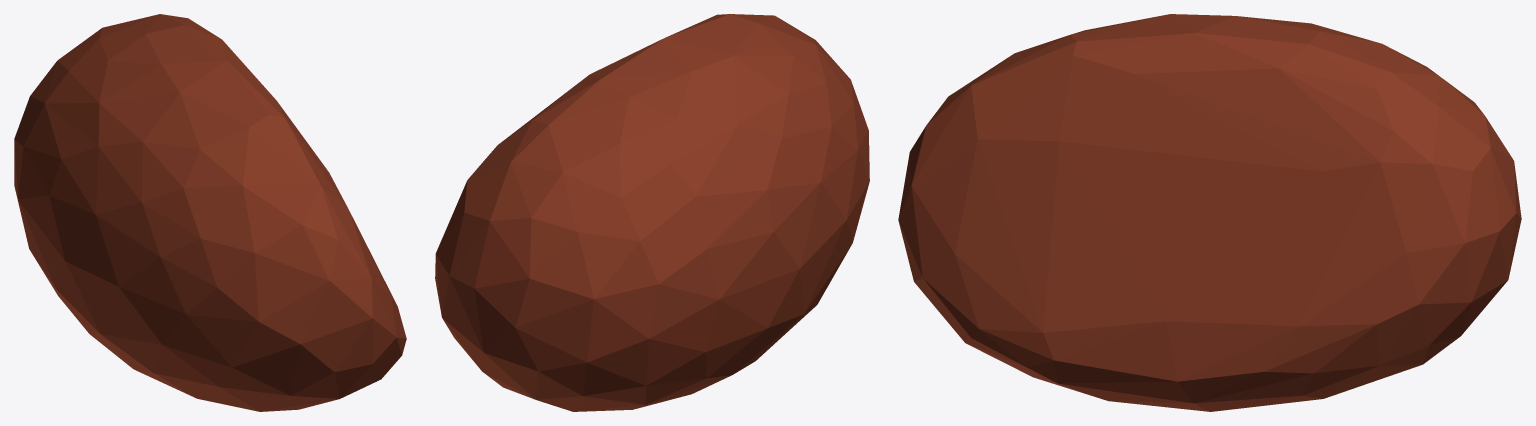
Rendered from agate piece 1.glb.
3 renders of one model, left to right at view 1: azimuth 30°, elevation 25°; view 2: azimuth 150°, elevation 25°; view 3: azimuth 270°, elevation 25°, orthographic. The views are drawn at different scales.
Parts seen in each view (by area): view 1: Cube; view 2: Cube; view 3: Cube.
Boxes of the visible parts, box(x1,y1,x2,y2) form: Cube: box(14, 14, 406, 411); Cube: box(435, 14, 869, 411); Cube: box(898, 14, 1521, 411).
Size of the model in its own units: 0.0225 by 0.0245 by 0.0393.
